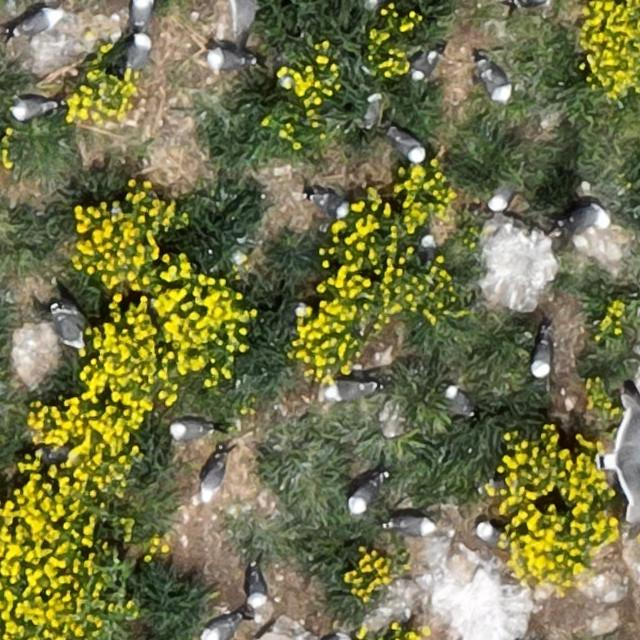F: (608, 391, 634, 533)
umineko: (563, 200, 610, 247), (14, 10, 57, 34), (350, 478, 380, 511), (323, 380, 369, 400), (55, 313, 82, 347), (393, 132, 424, 161), (313, 193, 351, 216), (391, 515, 434, 535), (482, 69, 508, 102), (210, 50, 250, 70), (202, 460, 223, 498), (444, 388, 470, 416), (533, 338, 552, 376), (12, 99, 50, 118), (248, 571, 268, 606), (128, 35, 149, 68), (205, 618, 236, 640), (172, 420, 208, 438), (413, 52, 436, 78), (490, 187, 513, 211), (132, 1, 152, 28), (418, 232, 434, 263), (365, 94, 380, 127), (515, 0, 548, 6)
